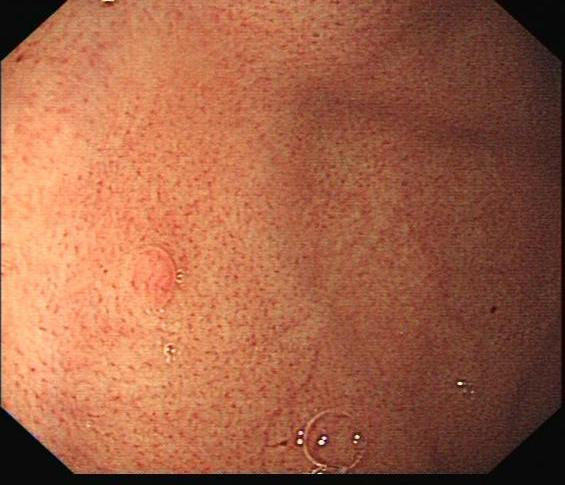Polyp: (119, 242, 181, 314)
